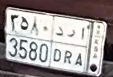0: (39, 25, 49, 63)
3: (8, 13, 19, 58)
5: (19, 16, 29, 59)
8: (28, 16, 39, 61)
A: (75, 27, 86, 66)
D: (53, 26, 64, 62)
R: (64, 29, 76, 64)
